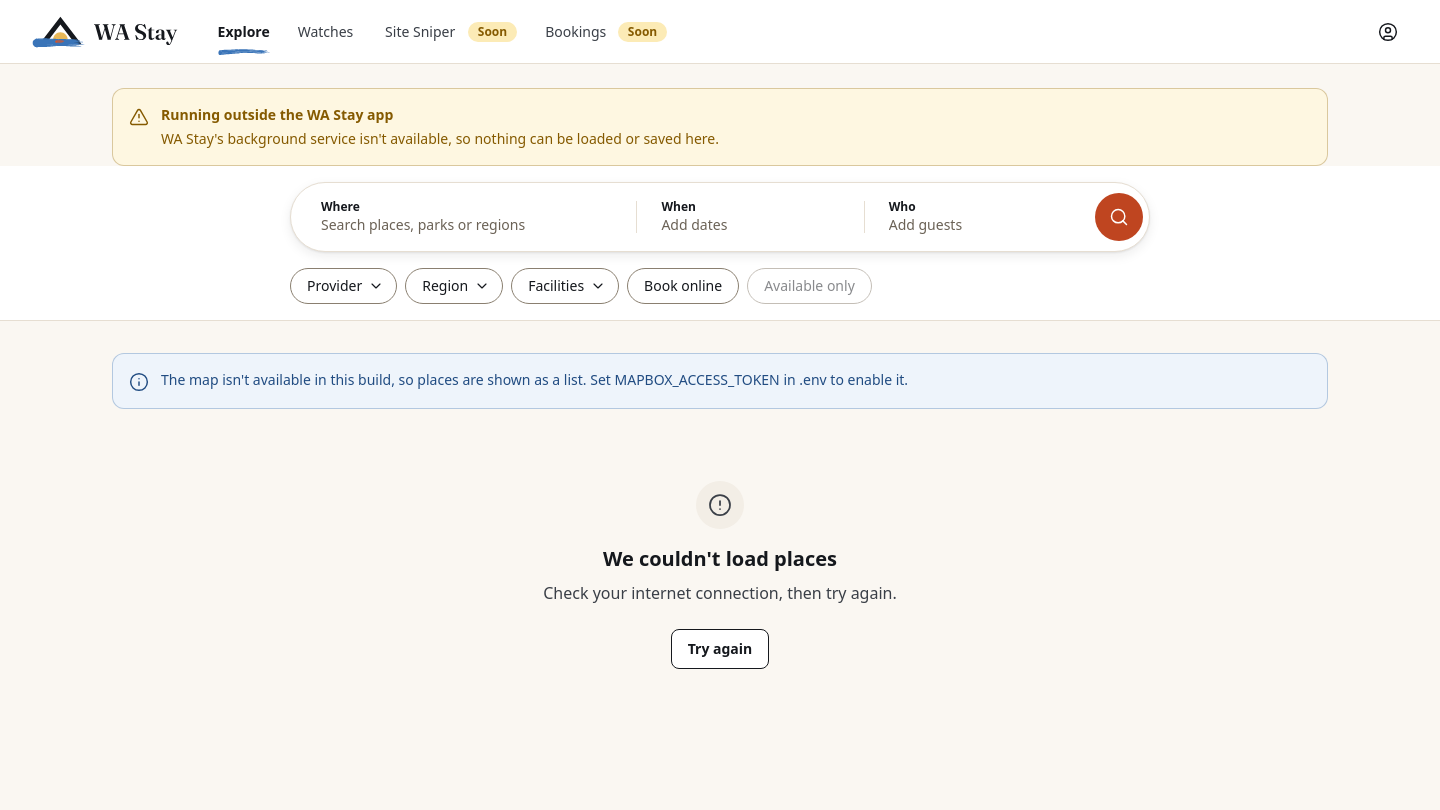
Scenario: App shell › without window.api › renders the shell with a notice instead of crashing
Expected: the text "Running outside the WA Stay app" is shown, top-left (161, 105), bottom-right (393, 124)
Click the button named "Account and settings".
click(1388, 32)  # box top-left (1368, 12), bottom-right (1408, 52)
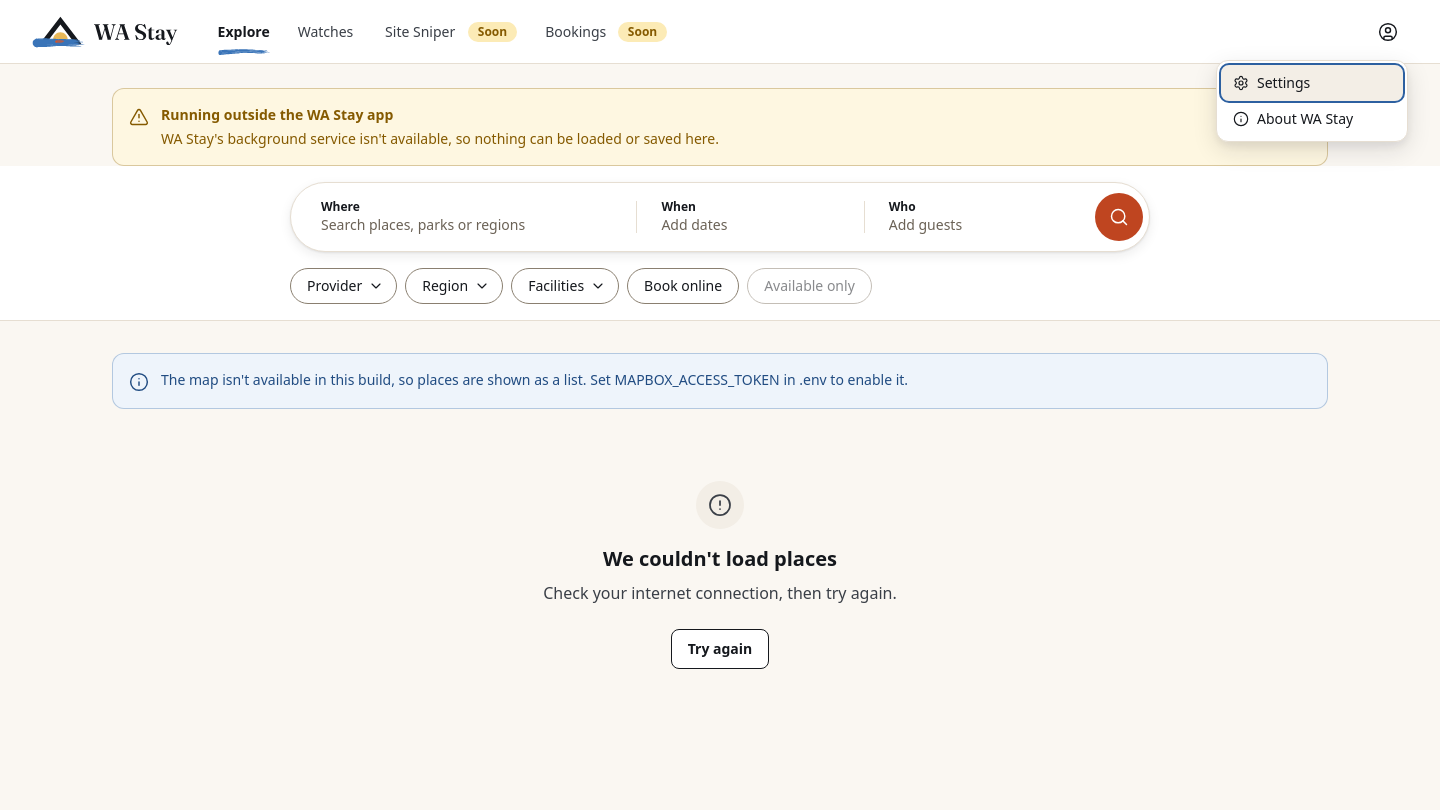
Expected: the menu item "Settings" is shown, top-left (1221, 64), bottom-right (1403, 100)
